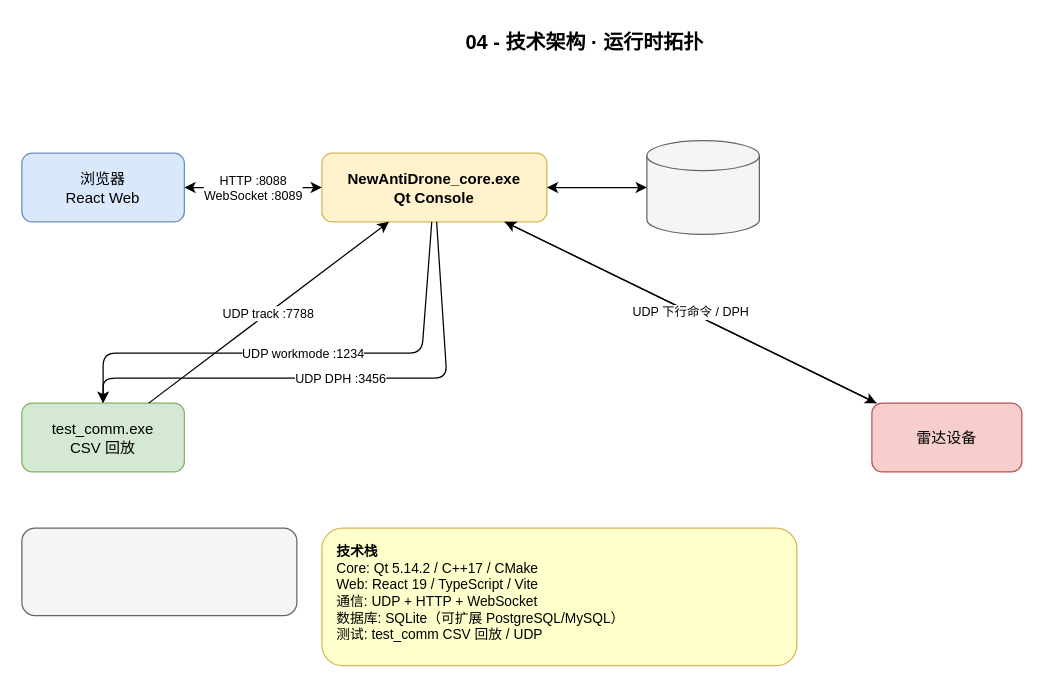
The diagram is 1044 pixels wide and 688 high, and some of its shapes have lost their labels. The shapes that lost their labels are listed below. From the top down, each one's centre as x and y in pixels, then its label:
the point at 702,186: SQLite DB
the point at 159,571: 端口约定 8088 HTTP REST | 8089 WebSocket | 7788 雷达上行 | 1234 workStandby | 3456 DPH
